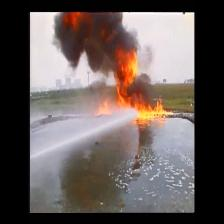fire: (140, 102, 168, 119), (125, 51, 139, 76)
smoke: (58, 13, 125, 60)
